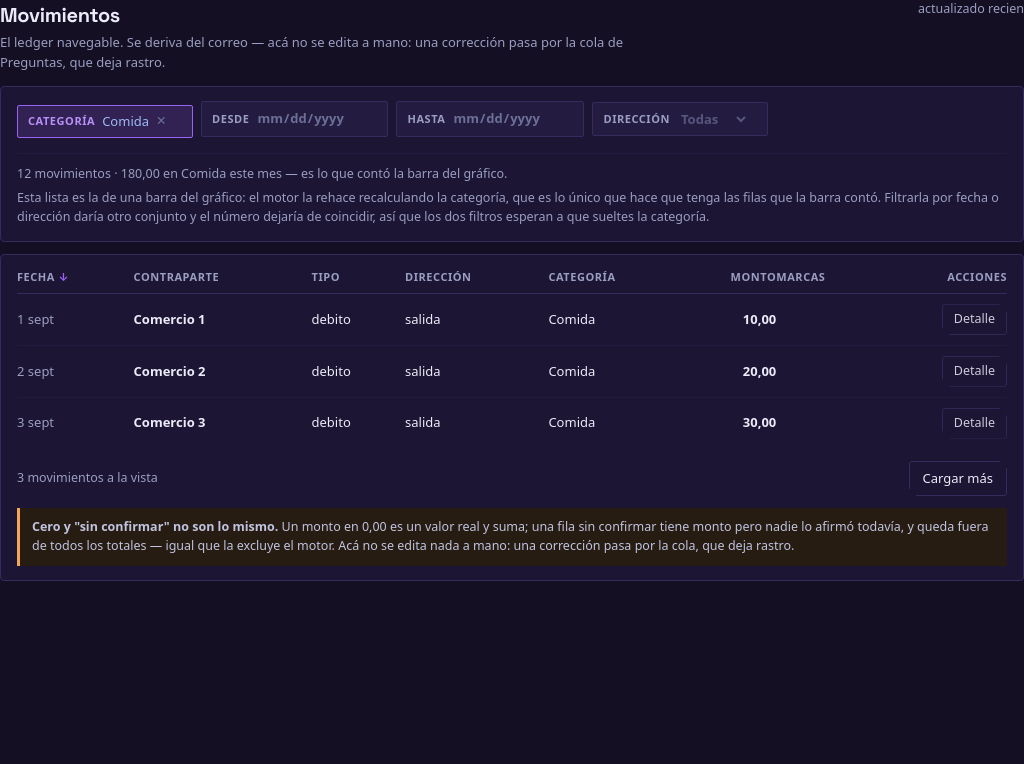
Test: `¿Qué es esto?` desde el detalle de una fila (H28) › si la fila salió de la lista de la barra, se dice ahí mismo por qué
Step 1. Click the button with test id "fila-detalle" in the row of "1 sept" → (974, 320), box 942,304 -> 1007,335
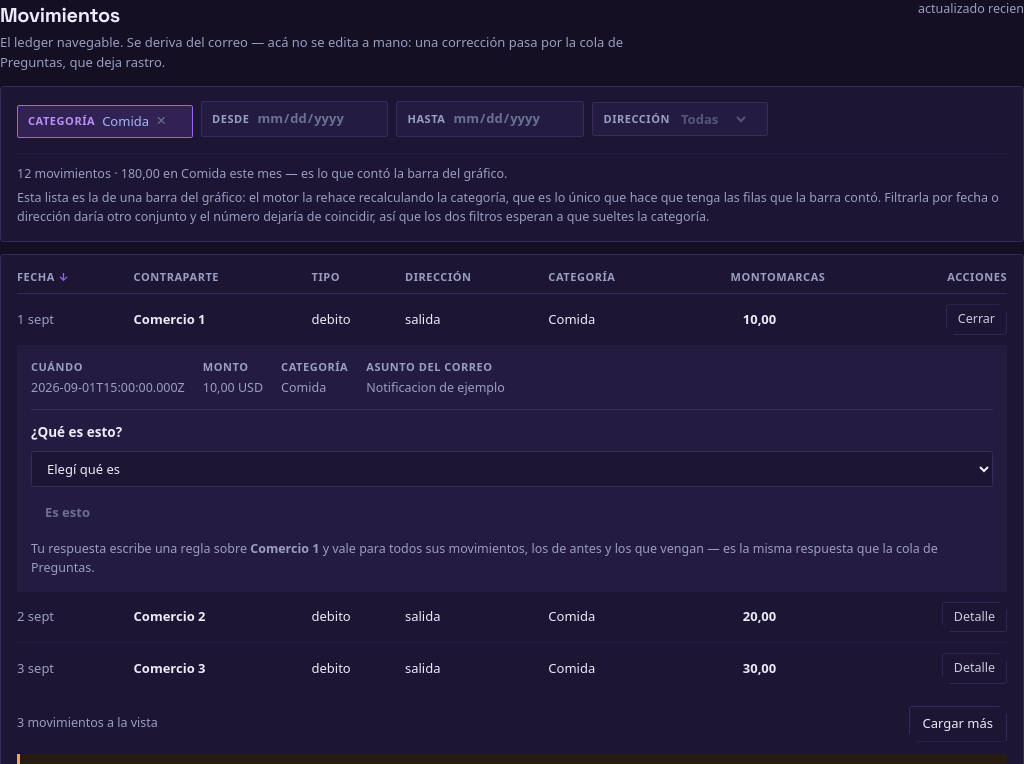
Step 2. Select "Salud y medicina" in the dropdown with test id "detalle-selector" → (512, 468), box 31,450 -> 993,486
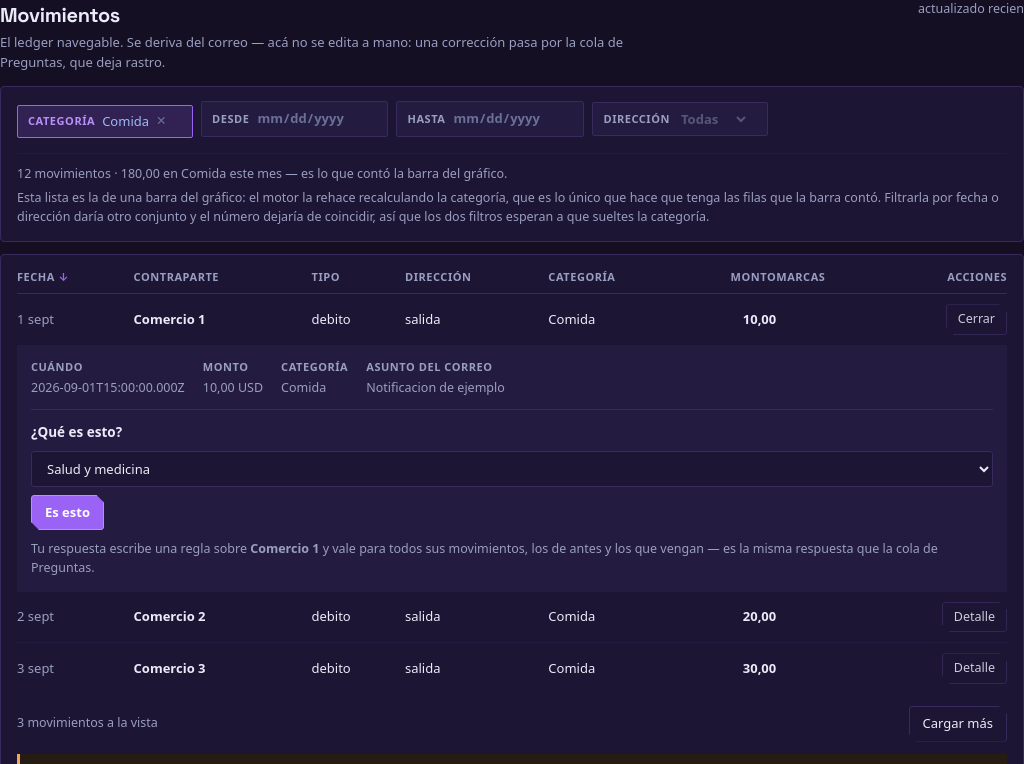
Step 3. Click the button with test id "detalle-responder" → (68, 512), box 31,494 -> 104,530
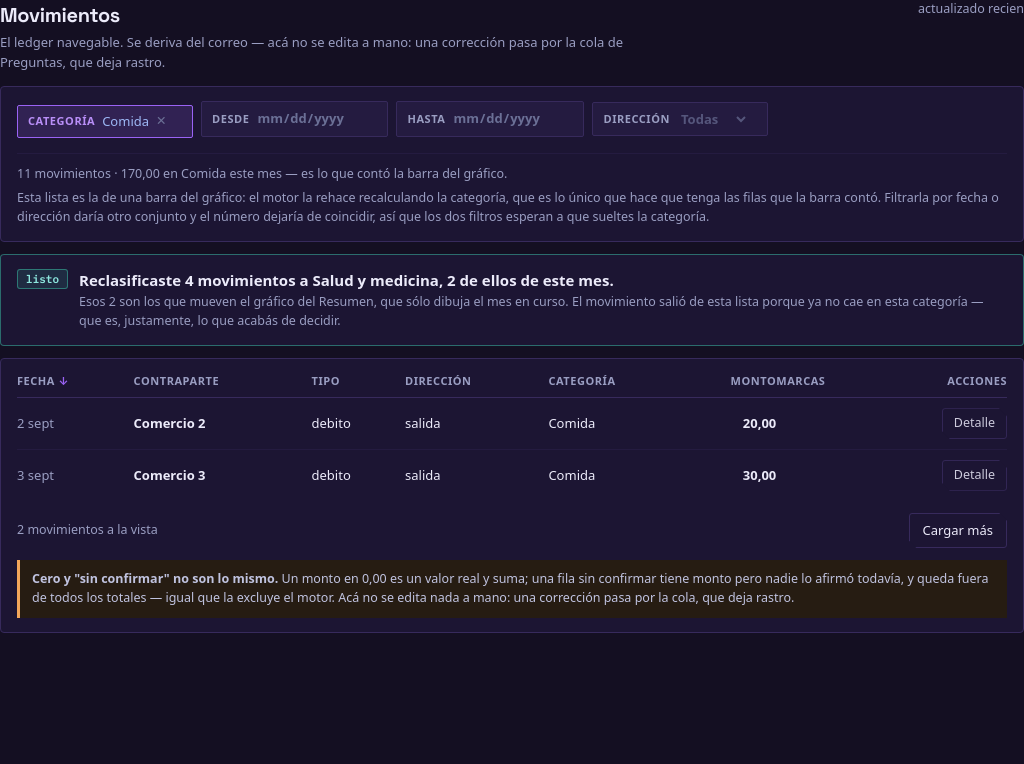
Expected: the element with test id "efecto-huerfano" shows "4 movimientos", 79,270 -> 614,290
Expected: the element with test id "efecto-huerfano" shows "ya no cae en esta categoría", 79,293 -> 983,329
